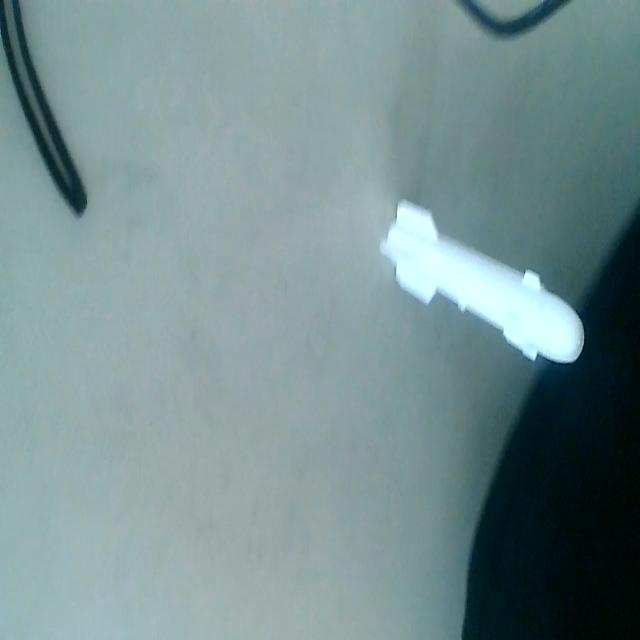Rocket: (377, 184, 587, 374)
